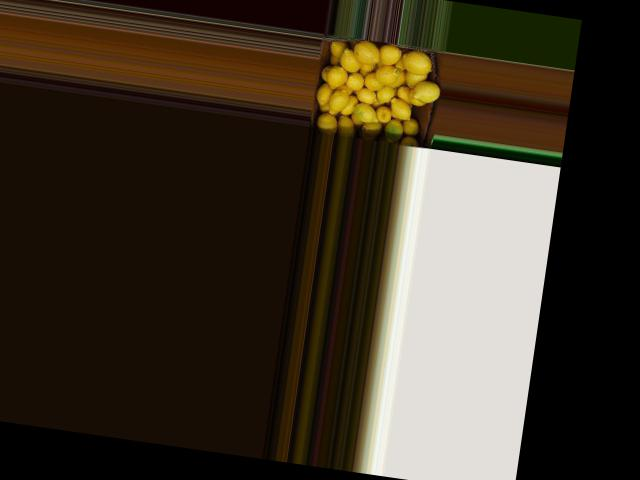lemon: (375, 85, 394, 105)
